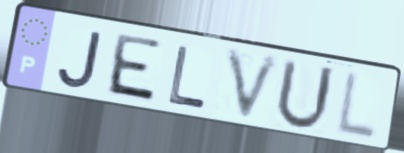E: (102, 31, 165, 107)
J: (54, 30, 106, 92)
L: (331, 69, 381, 145), (165, 43, 209, 114)
U: (271, 56, 337, 133)
V: (223, 46, 286, 127)
